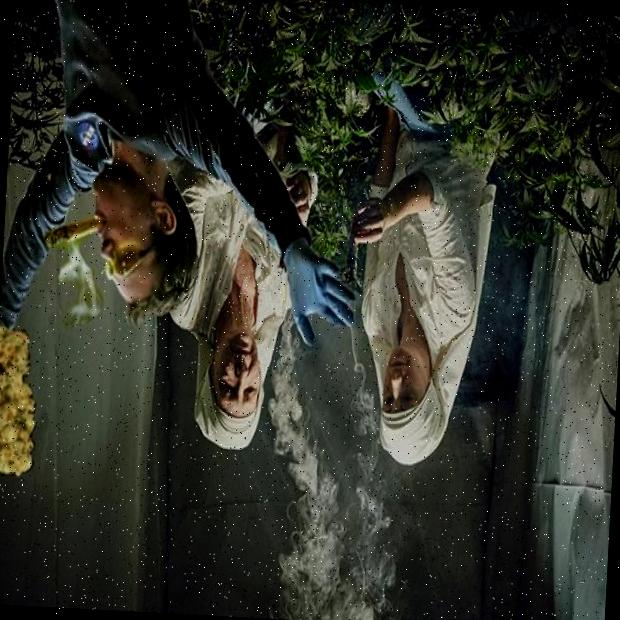smoke: (255, 326, 394, 620), (62, 251, 108, 316)
